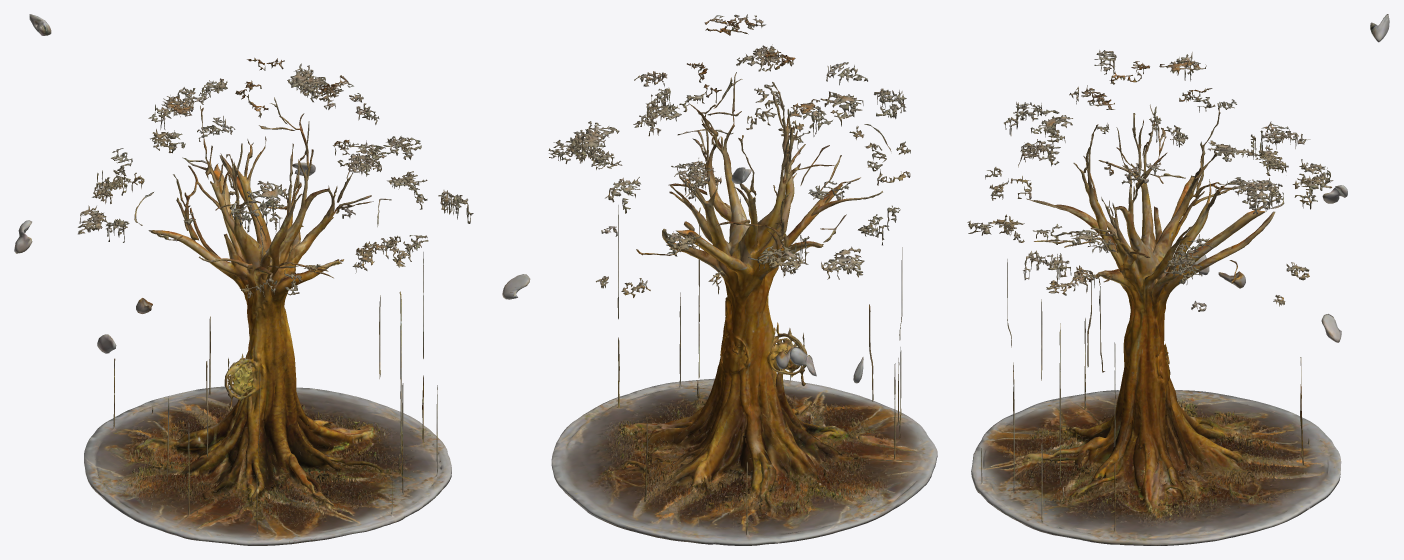
The model's file is Meshy_AI_Enchanted_Luminescenc_1115232817_texture.glb.
3 views of the same model, side by side, from view 1: azimuth 30°, elevation 25°; view 2: azimuth 150°, elevation 25°; view 3: azimuth 270°, elevation 25° (orthographic). The views are drawn at different scales.
Bounding box in the file's own units: 1.71 × 1.97 × 1.89.
Materials: 1 (1 with a texture image).
